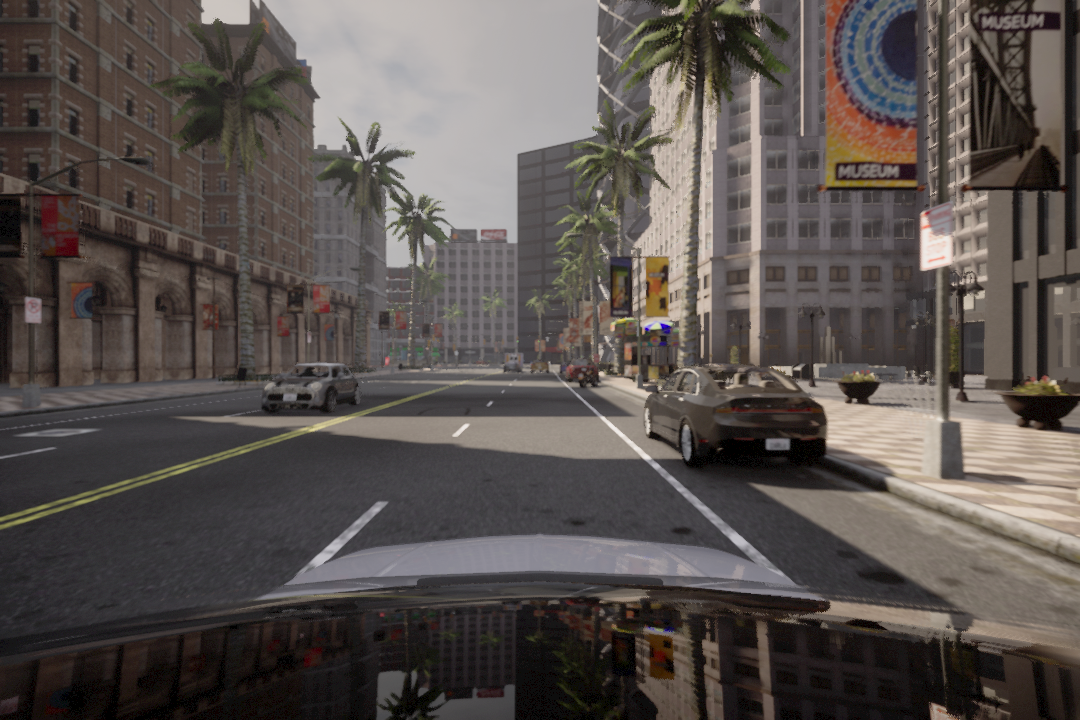TrafficSign_nstop: (23, 298, 42, 324)
